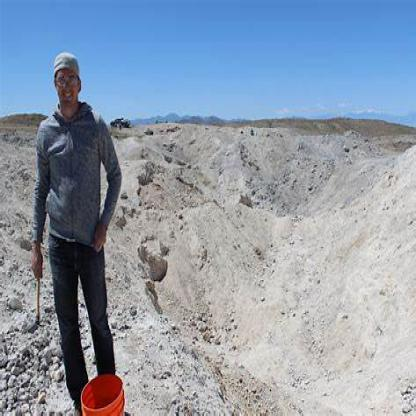person: (22, 49, 119, 411)
